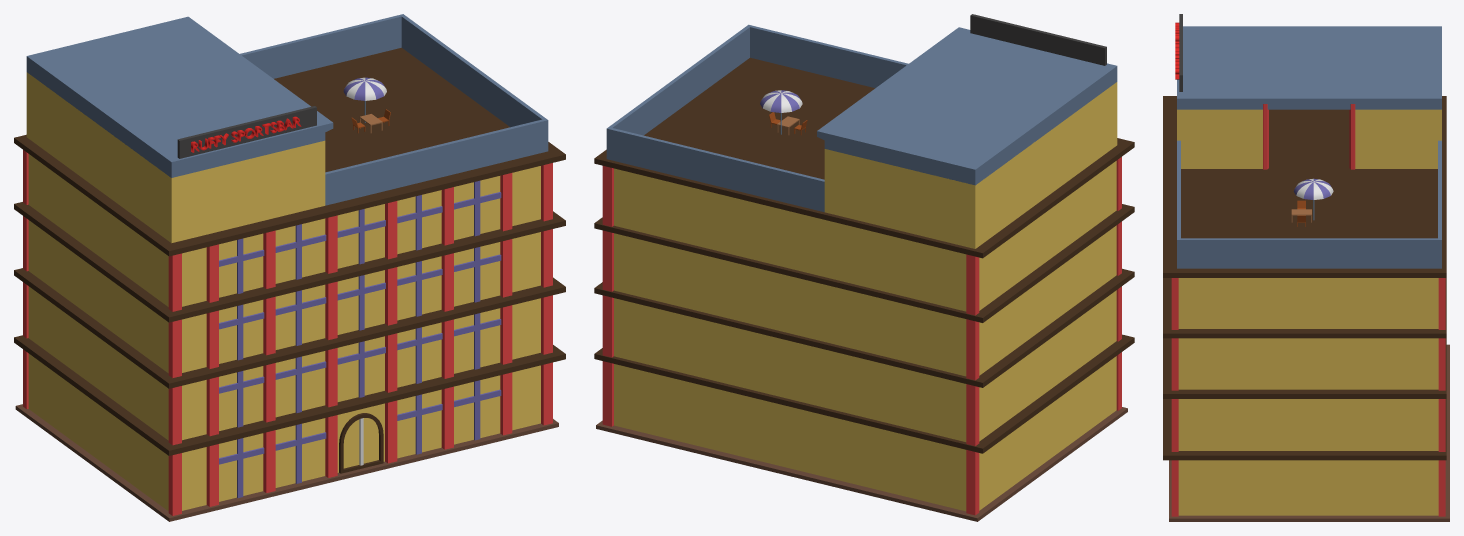
File: Ruffy_sportsbar.fbx
3 views of the same model, side by side, from view 1: azimuth 30°, elevation 25°; view 2: azimuth 150°, elevation 25°; view 3: azimuth 270°, elevation 25° (orthographic). The views are drawn at different scales.
Parts seen in each view (by area): view 1: Rooftop, First_ floor, Second_floor, ThirdFloor, FourthFloor, Plane.006, Plane.003, ForthFloor, SecondFloor, ThirdFloor.001, FirstFloor, Cube.025 (+2 smaller); view 2: Rooftop, First_ floor, Second_floor, ThirdFloor, FourthFloor, Plane.006, Plane.003, SecondFloor, ThirdFloor.001, ForthFloor, FirstFloor, Cube.025 (+1 smaller); view 3: Plane.003, Plane.006, Rooftop, First_ floor, Second_floor, ThirdFloor, FourthFloor, SecondFloor, ForthFloor, ThirdFloor.001, FirstFloor, polySurface44.002 (+1 smaller).
Boxes of the visible parts, x1=… form: Rooftop: x1=26, y1=14, x2=548, y2=243; First_ floor: x1=23, y1=349, x2=552, y2=515; Second_floor: x1=23, y1=282, x2=552, y2=445; ThirdFloor: x1=23, y1=216, x2=552, y2=378; FourthFloor: x1=23, y1=150, x2=552, y2=311; Plane.006: x1=26, y1=16, x2=333, y2=177; Plane.003: x1=14, y1=47, x2=565, y2=256; ForthFloor: x1=14, y1=202, x2=565, y2=322; SecondFloor: x1=14, y1=335, x2=565, y2=455; ThirdFloor.001: x1=14, y1=268, x2=565, y2=388; FirstFloor: x1=15, y1=404, x2=558, y2=521; Cube.025: x1=177, y1=106, x2=316, y2=158; Rooftop: x1=606, y1=24, x2=1117, y2=248; First_ floor: x1=602, y1=352, x2=1121, y2=515; Second_floor: x1=602, y1=286, x2=1121, y2=446; ThirdFloor: x1=602, y1=221, x2=1121, y2=380; FourthFloor: x1=602, y1=157, x2=1121, y2=322; Plane.006: x1=817, y1=27, x2=1117, y2=185; Plane.003: x1=594, y1=57, x2=1134, y2=258; SecondFloor: x1=594, y1=334, x2=1134, y2=453; ThirdFloor.001: x1=594, y1=268, x2=1134, y2=387; ForthFloor: x1=594, y1=204, x2=1134, y2=322; FirstFloor: x1=596, y1=407, x2=1127, y2=521; Cube.025: x1=970, y1=14, x2=1106, y2=65; Plane.003: x1=1163, y1=96, x2=1446, y2=277; Plane.006: x1=1177, y1=26, x2=1441, y2=109; Rooftop: x1=1177, y1=109, x2=1441, y2=268; First_ floor: x1=1171, y1=460, x2=1445, y2=516; Second_floor: x1=1171, y1=399, x2=1445, y2=451; ThirdFloor: x1=1171, y1=338, x2=1445, y2=390; FourthFloor: x1=1171, y1=278, x2=1445, y2=329; SecondFloor: x1=1163, y1=399, x2=1446, y2=460; ForthFloor: x1=1163, y1=278, x2=1446, y2=338; ThirdFloor.001: x1=1163, y1=338, x2=1446, y2=398; FirstFloor: x1=1169, y1=344, x2=1449, y2=521; polySurface44.002: x1=1291, y1=178, x2=1333, y2=226.
Bounding box in the file's own units: 6321 × 5678 × 4328.
4 materials, 3 textured.
